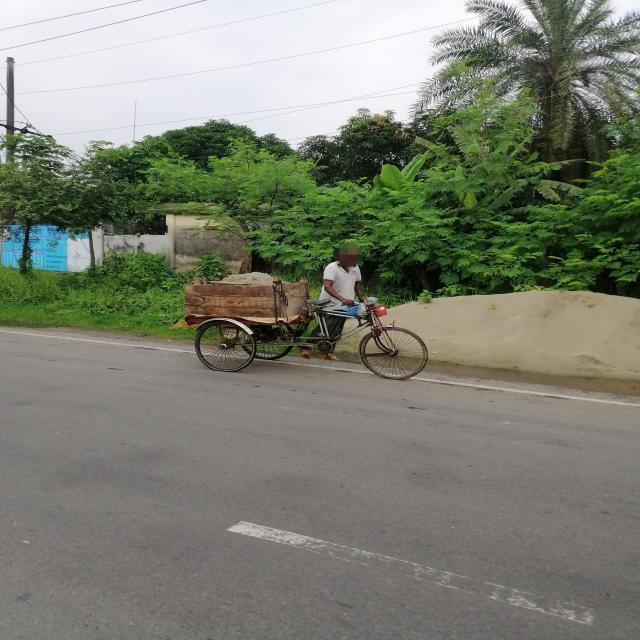Van: (168, 272, 432, 384)
